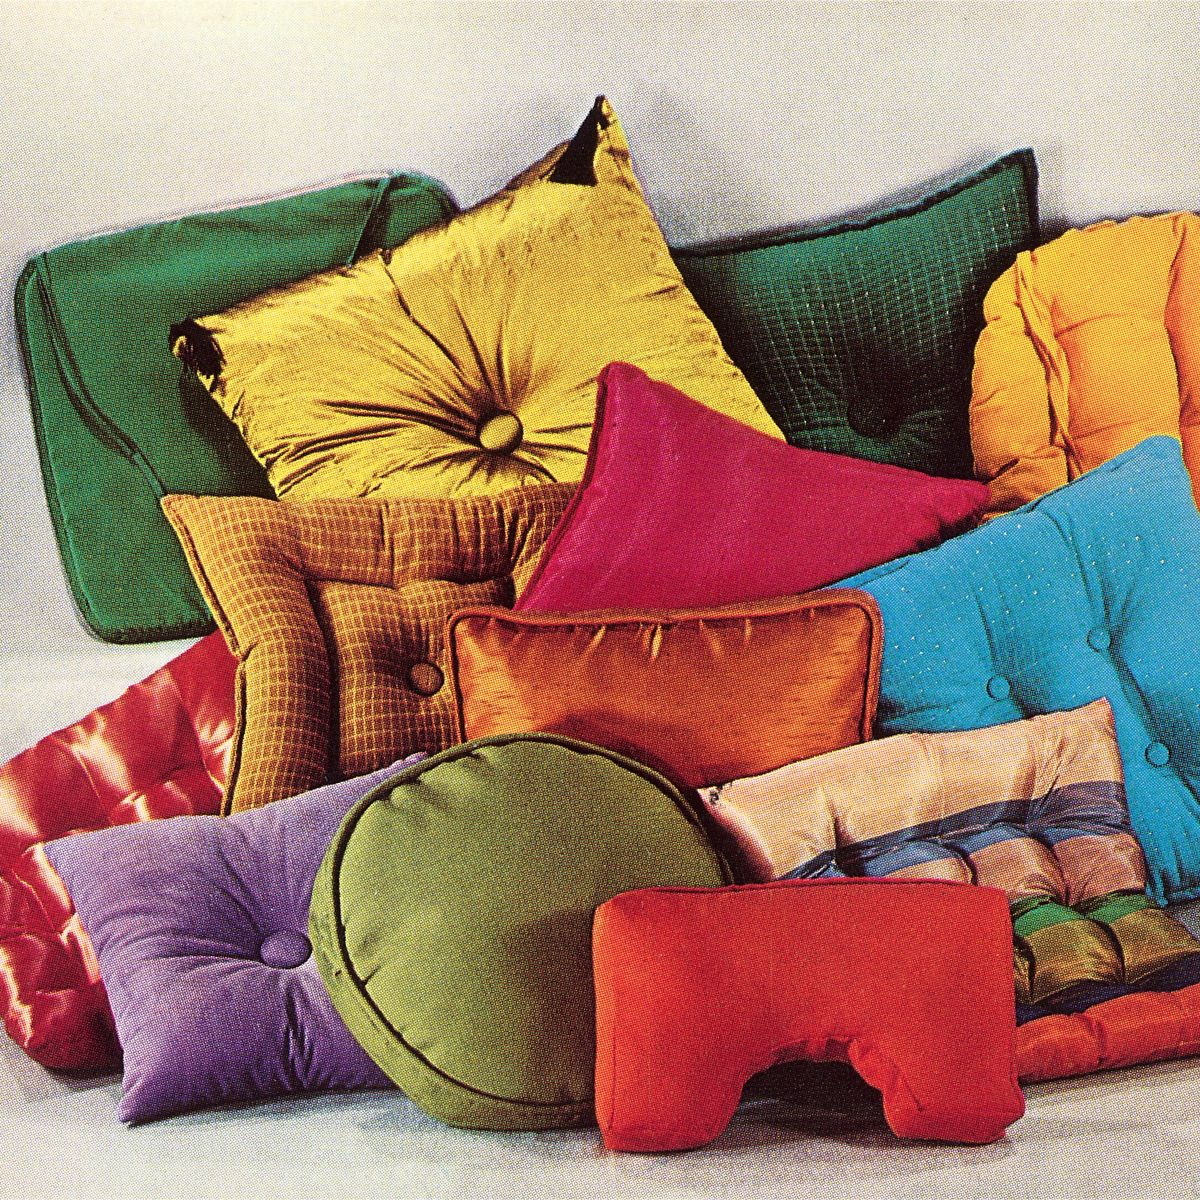bantal: (138, 155, 763, 490), (282, 757, 729, 1129), (66, 805, 355, 1103), (166, 492, 458, 775)
